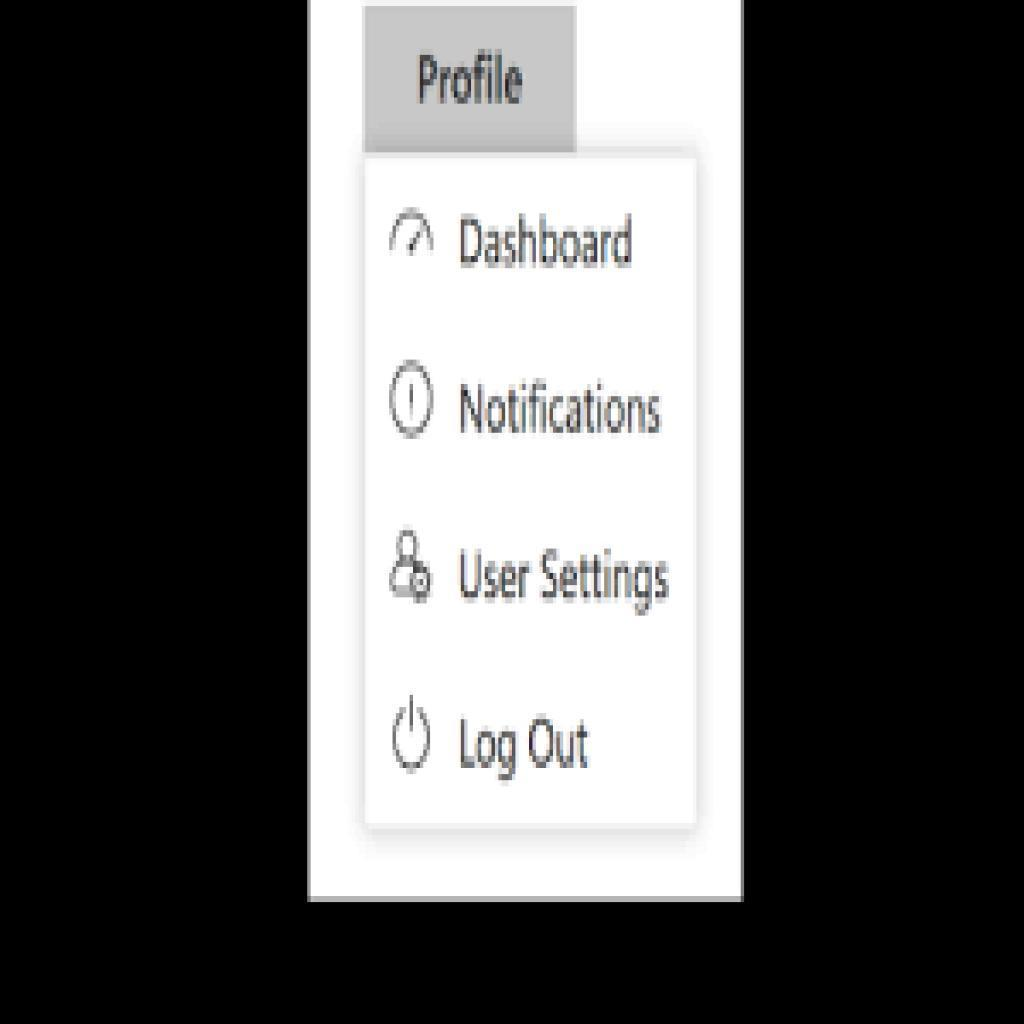button: (362, 7, 579, 152)
icon: (383, 688, 441, 784), (384, 354, 442, 445), (386, 527, 439, 612), (384, 199, 439, 275)
label: (456, 539, 676, 617), (451, 377, 665, 445), (462, 210, 645, 275), (457, 711, 597, 781)
